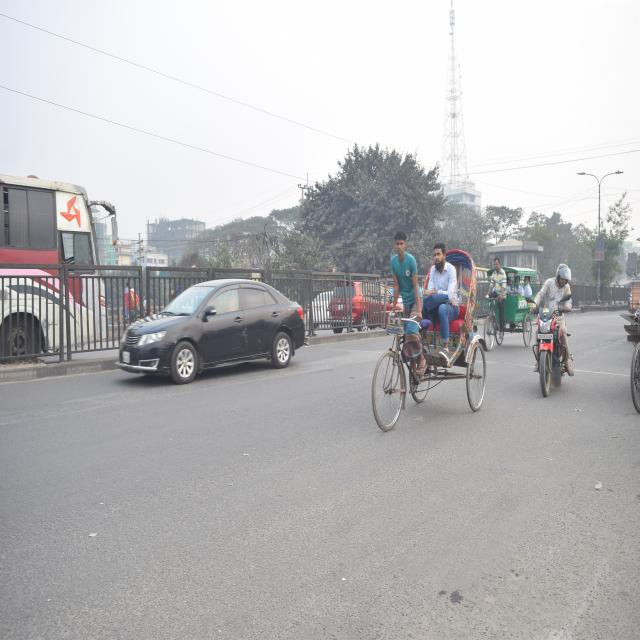bus: (0, 173, 114, 371)
car: (114, 265, 304, 383)
motorbike: (513, 288, 575, 404)
